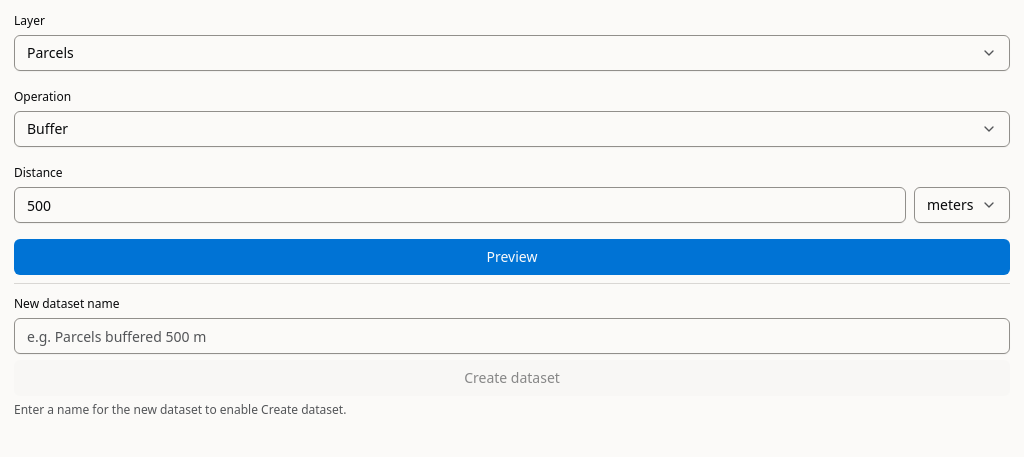
AnalysisPanel — chat handoff prefill (#675) › state lifecycle (fix #757/#758/#760/#764) › renders the job status in a persistent role="status" region (#784)
Type "Walkshed" into the field labelled "New dataset name" at (512, 336), box [14,318,1010,354]
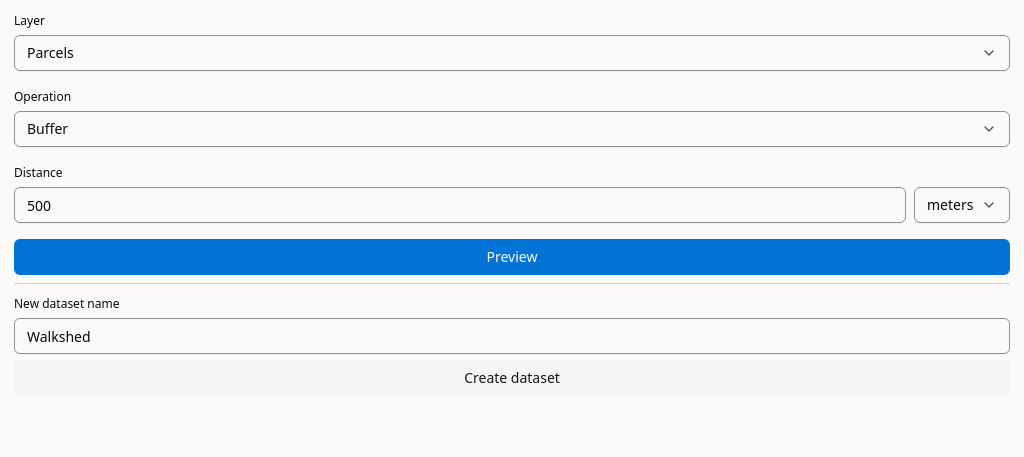
Click the button "Create dataset" at (512, 378), box [14,360,1010,396]
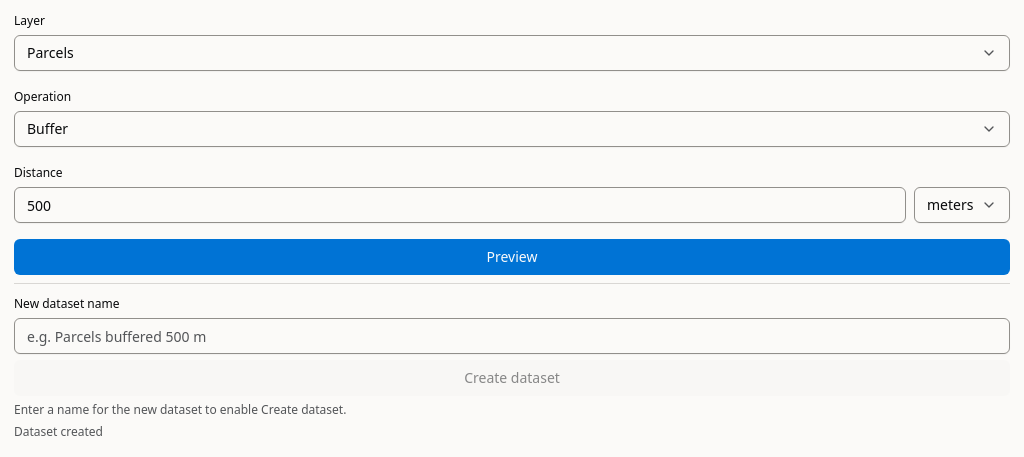
Result: the message reads "Dataset created" at [14,423,103,440]
